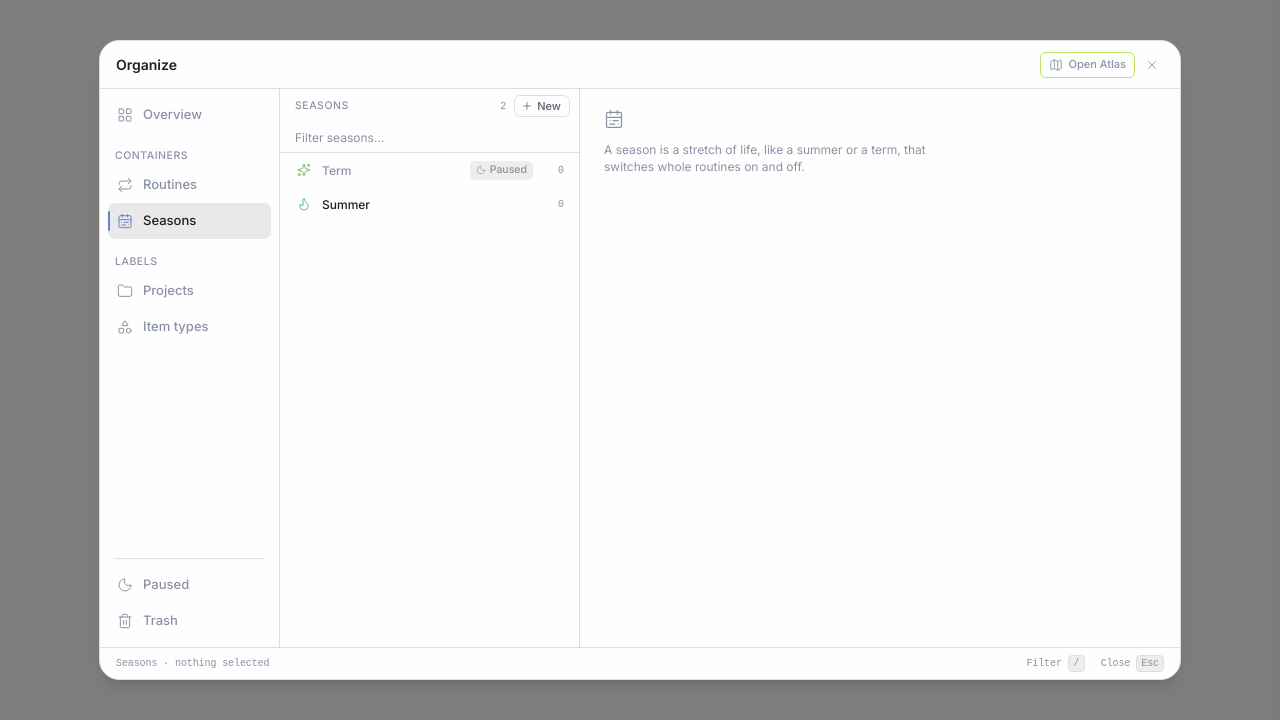
it: the seasons section › names what the swap would turn off
This screenshot has width=1280, height=720.
Click the button with test id "season-row": (501, 170) [288,153,571,187]
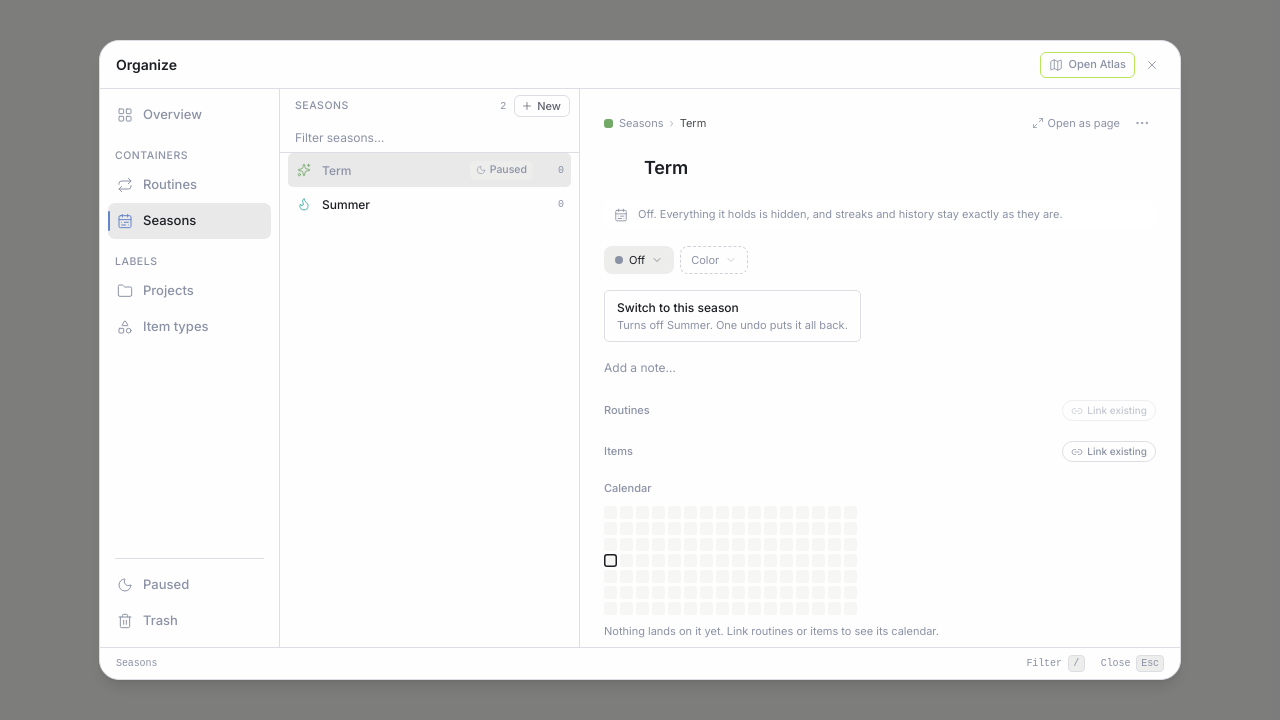
Expected: the button with test id "season-swap" shows "Turns off Summer", [604,290,861,342]
Expected: the button with test id "season-swap" shows "One undo puts it all back", [604,290,861,342]
